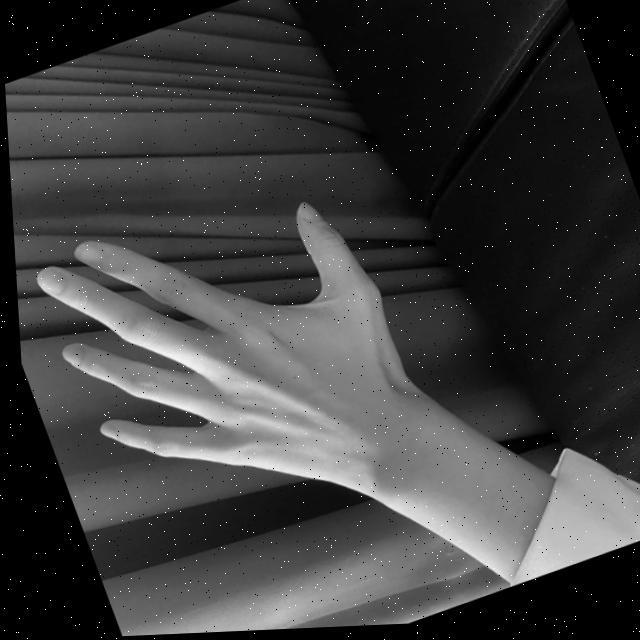no-gloves: (16, 153, 436, 556)
